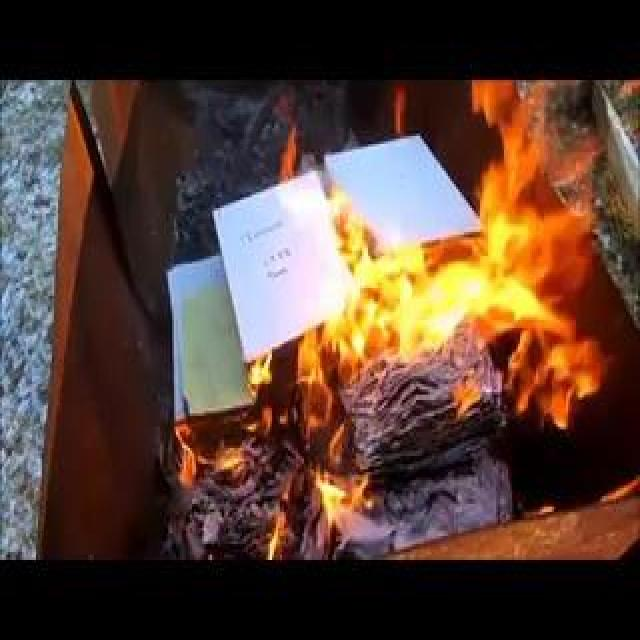Fire: (154, 142, 237, 456)
